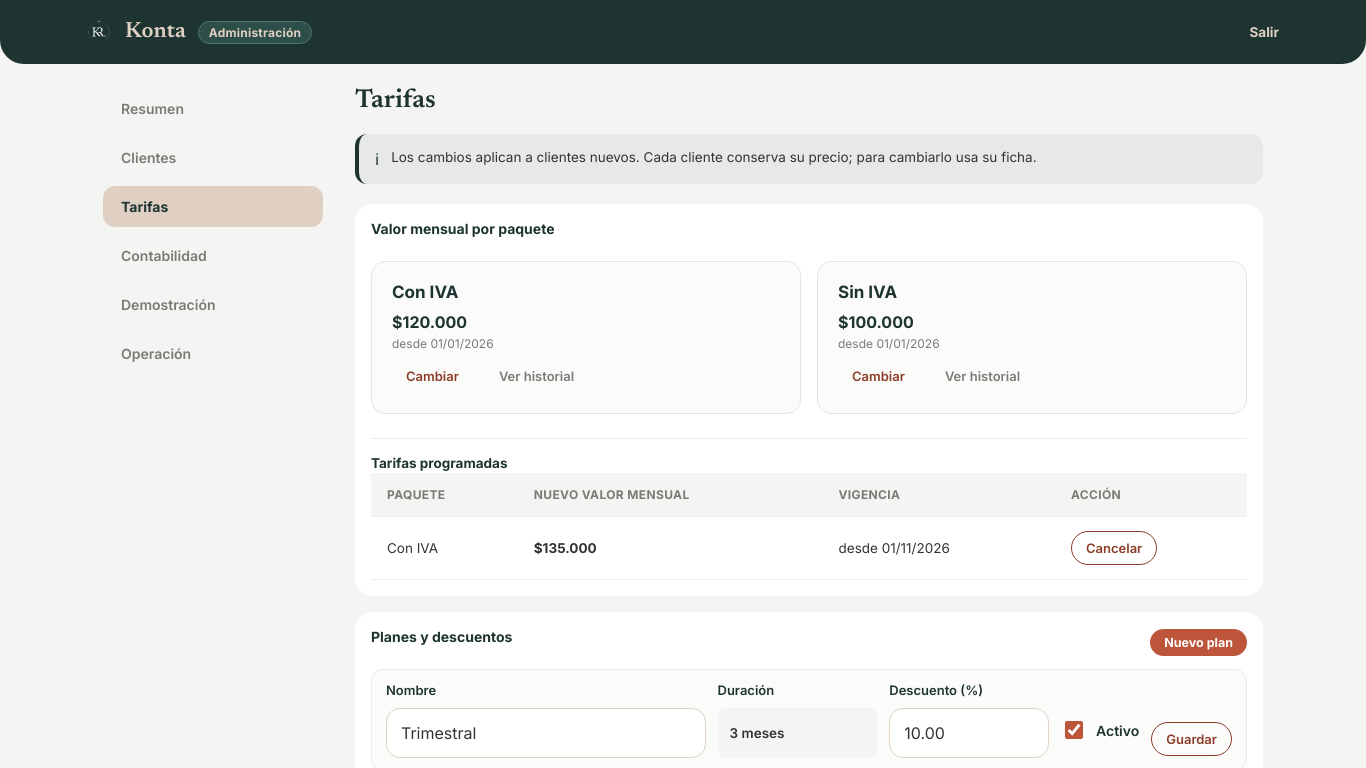
Test: Story 9.3: Panel web — Tarifas, precio del cliente y aviso de monto › Pantalla Tarifas (/admin/tarifas) — AC #1 a #5 › ver historial por paquete: abre modal con GET /api/admin/pricing/rates/history (AC #5)
Expected: the heading "Tarifas" is shown, [355,88,436,114]
Click the 1st button "Ver historial": (536, 376) [485,359,588,393]
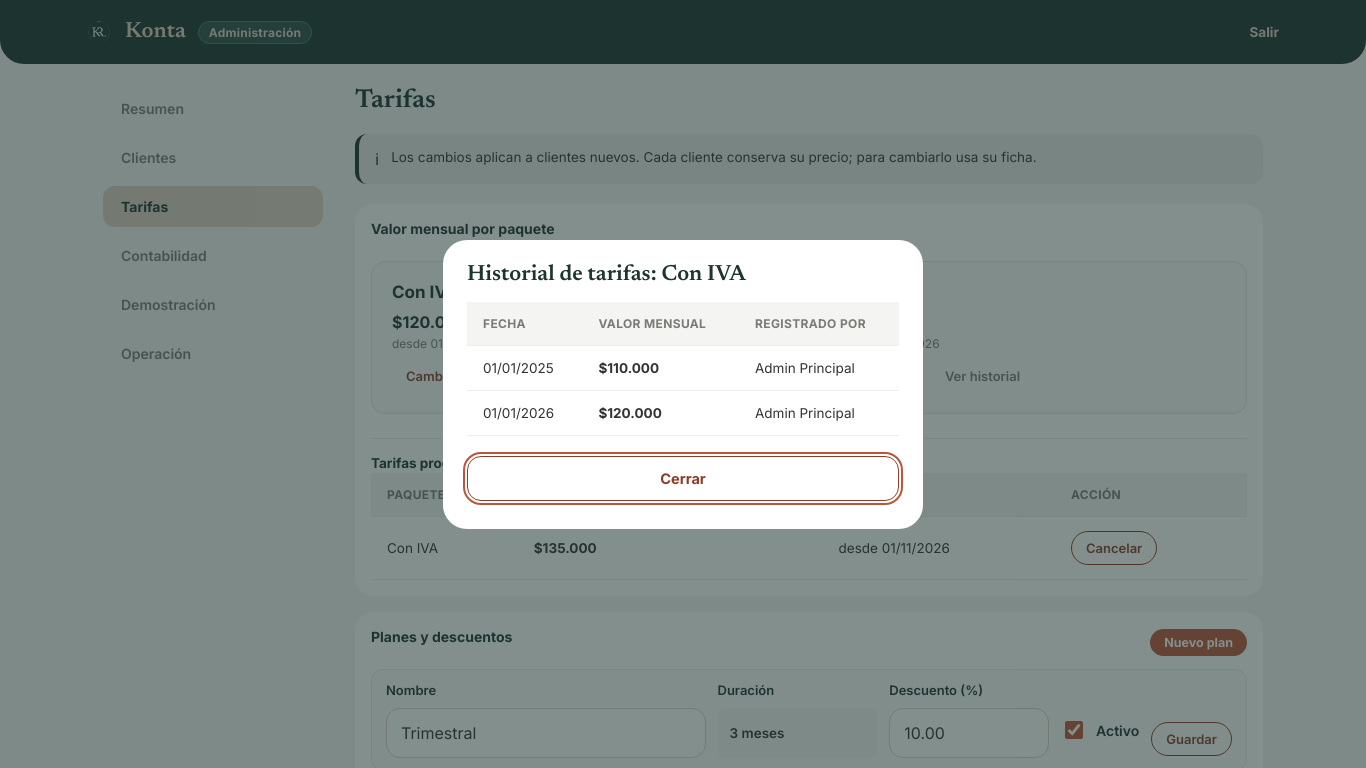
Now the dialog is shown, box [443,240,923,528]
Now the text "Admin Principal" is shown 2 times, box [739,345,899,390]; [739,390,899,435]
Now the text "$110.000" is shown, box [598,360,659,376]
